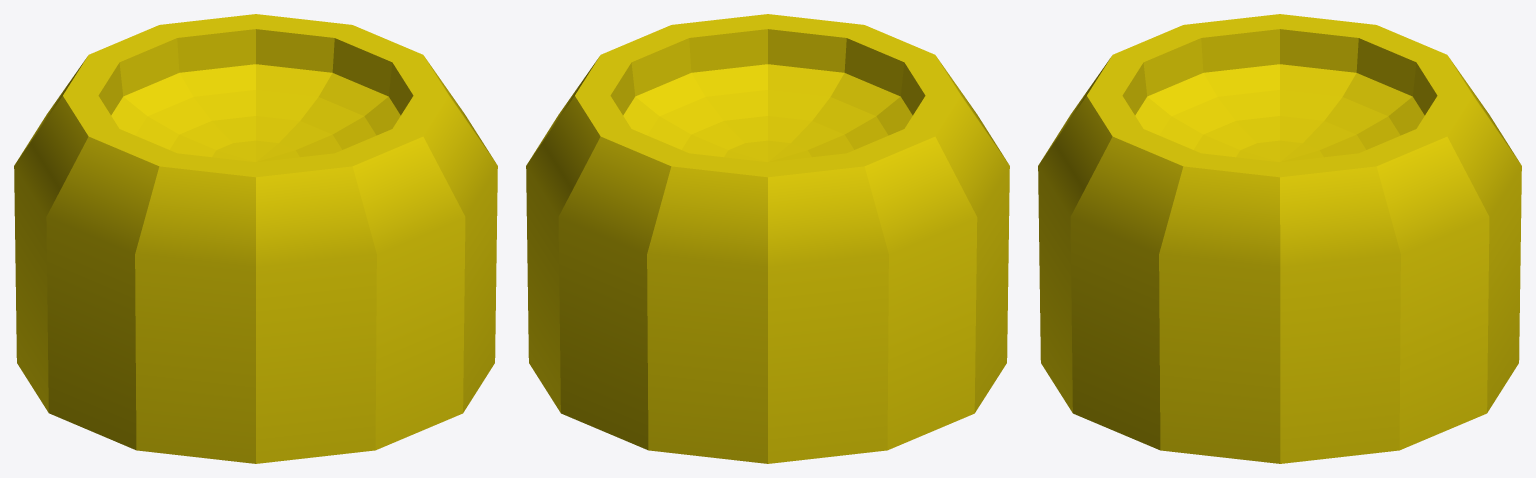
Rendered from Triangle_Hole_02.fbx.
3 renders of one model, left to right at view 1: azimuth 30°, elevation 25°; view 2: azimuth 150°, elevation 25°; view 3: azimuth 270°, elevation 25°, orthographic.
Visible parts, largest first — view 1: Triangle_Hole_02; view 2: Triangle_Hole_02; view 3: Triangle_Hole_02.
Boxes of the visible parts, x1=… form: Triangle_Hole_02: x1=14, y1=14, x2=497, y2=463; Triangle_Hole_02: x1=526, y1=14, x2=1009, y2=463; Triangle_Hole_02: x1=1038, y1=14, x2=1521, y2=463.
Size of the model in its own units: 9.58 by 5.84 by 9.58.
